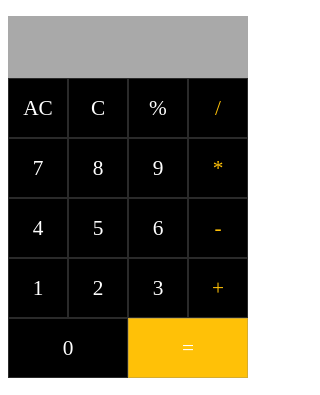
Test: Calculator › should display the clicked digits on screen
This screenshot has width=320, height=395.
Click the button with test id "calc-button-1" at point(38, 288), box [8,258,68,318]
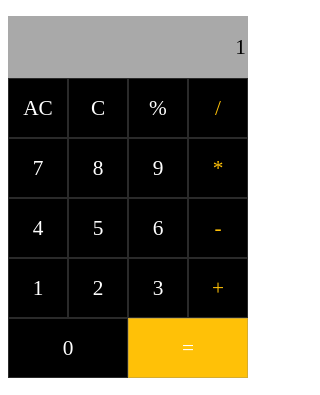
Click the button with test id "calc-button-3" at point(158, 288), box [128,258,188,318]
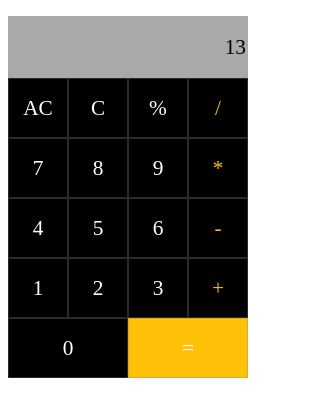
Now the field with test id "output-screen" holds "13", box [8,16,248,78]
